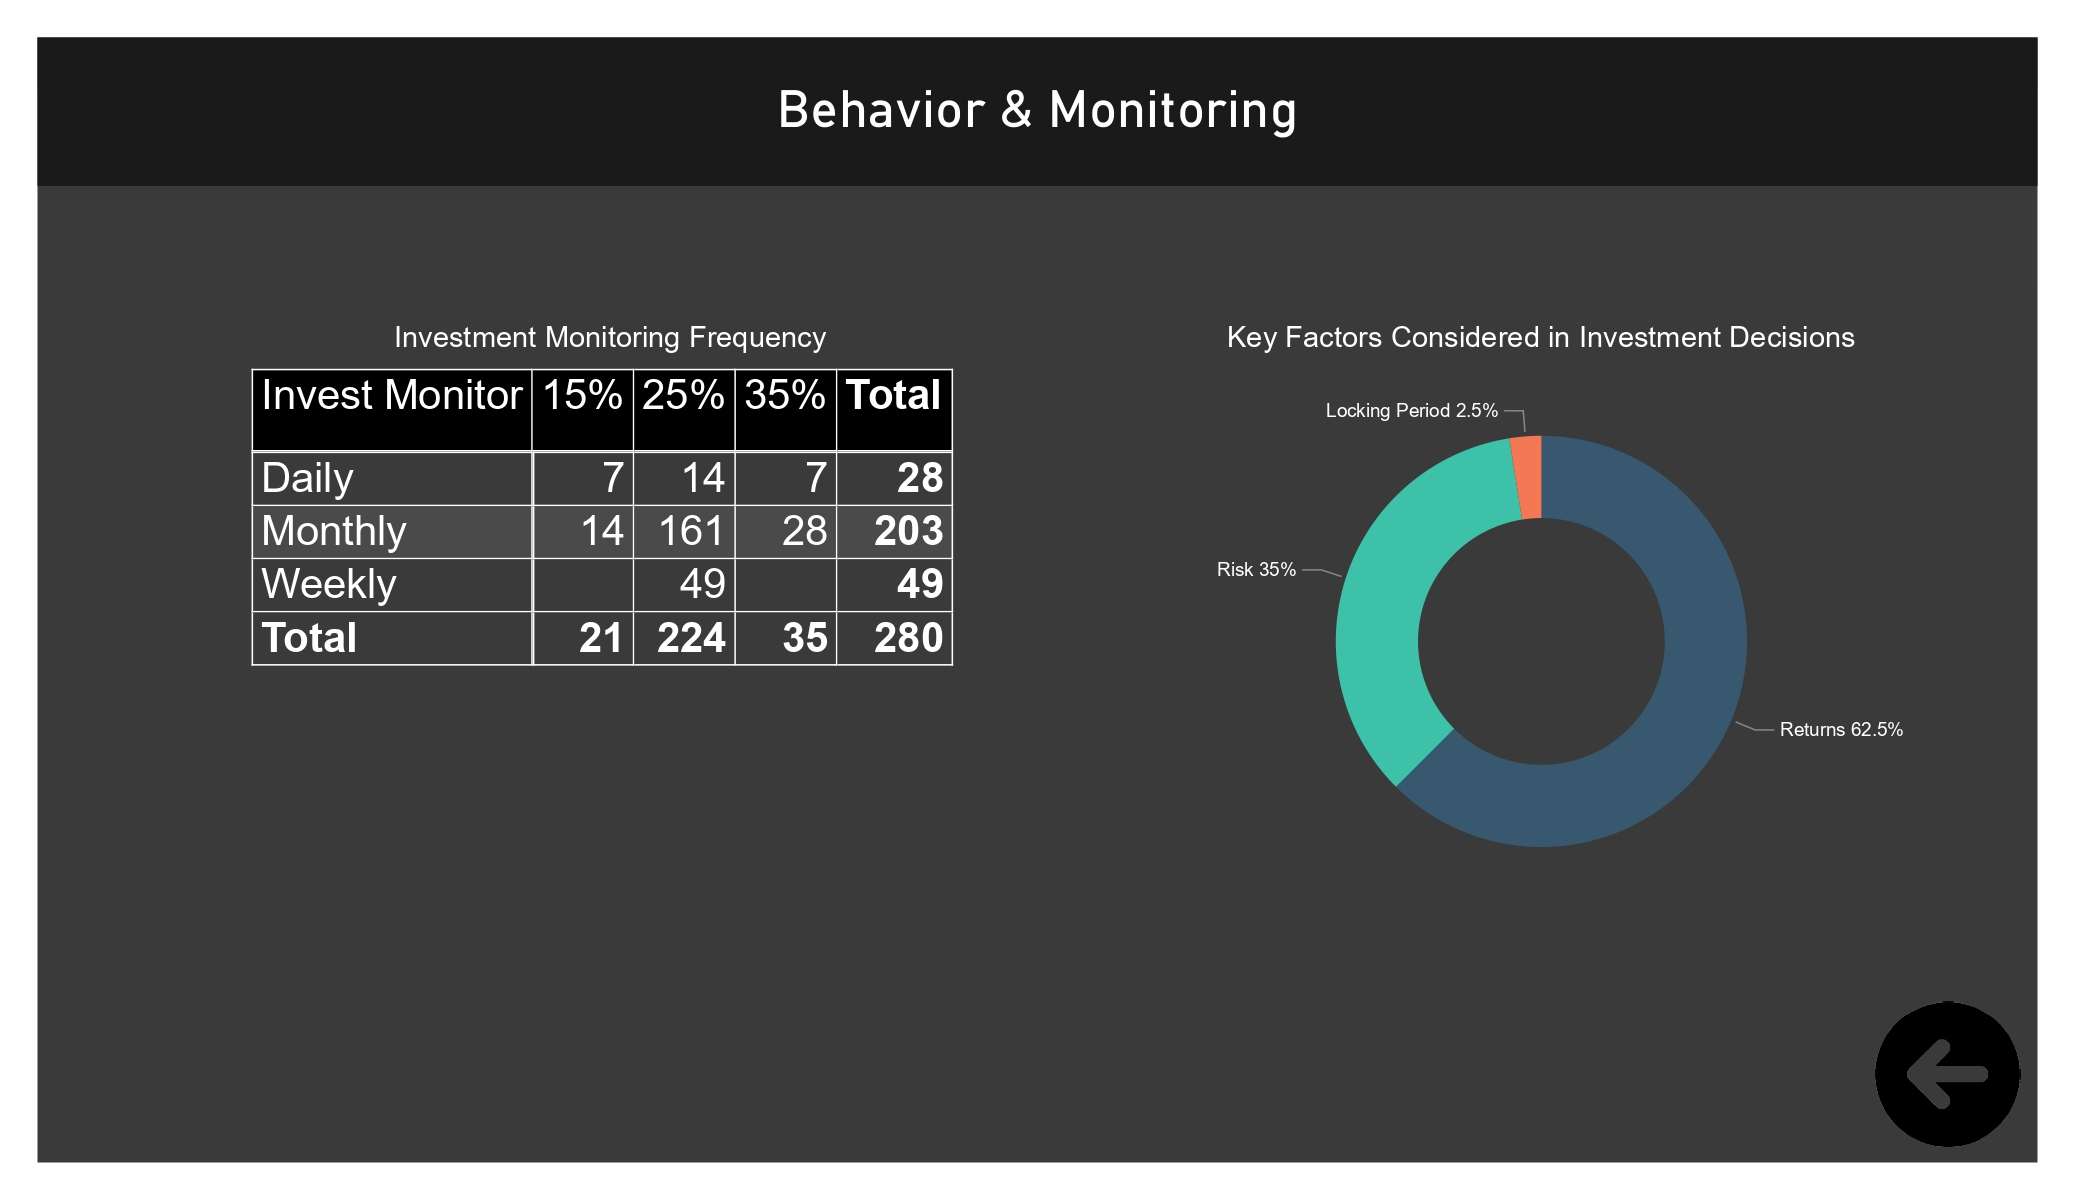

The dashboard page shown, as its layout file describes it:
{"tool":"powerbi","page":{"name":"Behavior & Monitoring","canvas":[1280,720],"ordinal":4},"visuals":[{"type":"shape","box":[0,0,1280,95],"z":0},{"type":"textbox","title":"Finance Data Analyst","box":[367.4,20.5,545.2,56.4],"z":1000},{"type":"pivotTable","title":"Investment Monitoring Frequency","fields":{"Rows":["Finance_data.Invest_Monitor"],"Columns":["Finance_data.Expect_Midpoint"],"Values":["CountNonNull(Finance_data.Expect_Midpoint)"]},"box":[131.8,181.4,469.1,250.9],"z":2000},{"type":"donutChart","title":"Key Factors Considered in Investment Decisions","fields":{"Category":["Finance_data.Factor"],"Y":["CountNonNull(Finance_data.RespondentID)"]},"box":[700.7,181.1,522.9,389.6],"z":3000},{"type":"image","box":[1170.7,606.6,103.5,113.4],"z":4000}]}

Visuals, with their boxes on the page's 1280x720 design canvas (x1, y1, x2, y2). These are canvas units, not pixel positions in the 2075x1200 screenshot, which may show the page scaled, cropped or inside an application window:
shape: Rect(0, 0, 1280, 95)
"Finance Data Analyst" textbox: Rect(367, 20, 913, 77)
"Investment Monitoring Frequency" pivotTable: Rect(132, 181, 601, 432)
"Key Factors Considered in Investment Decisions" donutChart: Rect(701, 181, 1224, 571)
image: Rect(1171, 607, 1274, 720)
